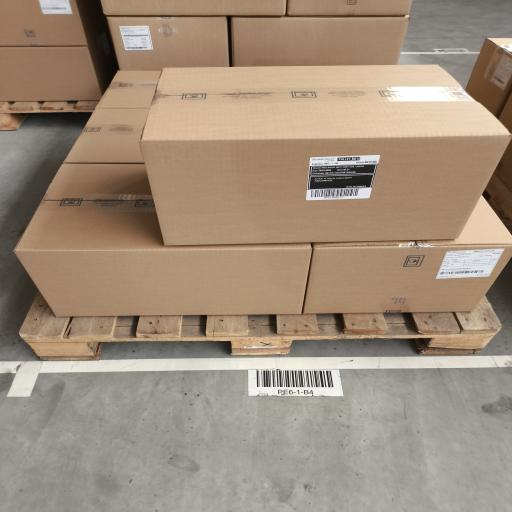pallet: (20, 294, 501, 360), (0, 101, 98, 130), (485, 175, 511, 228)
